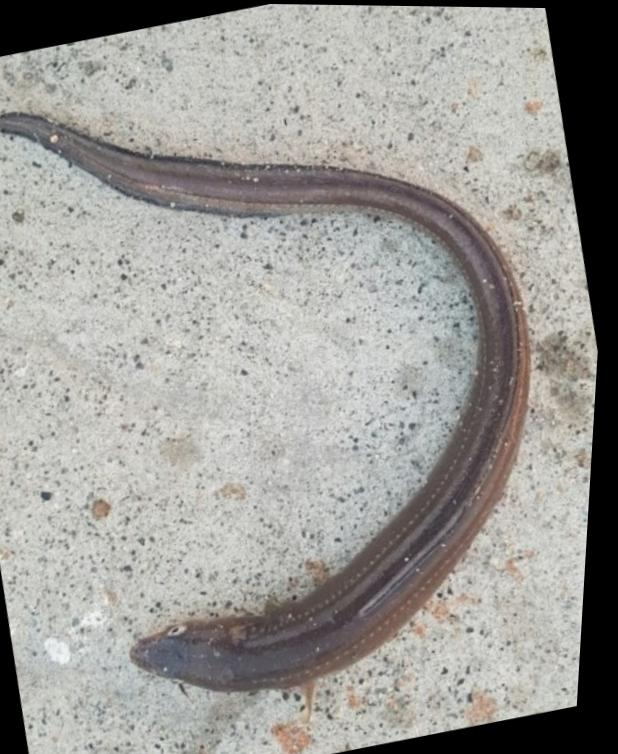fish: (0, 114, 534, 690)
